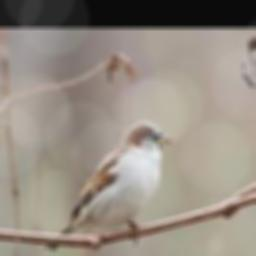Sparrow: (44, 120, 172, 251)
